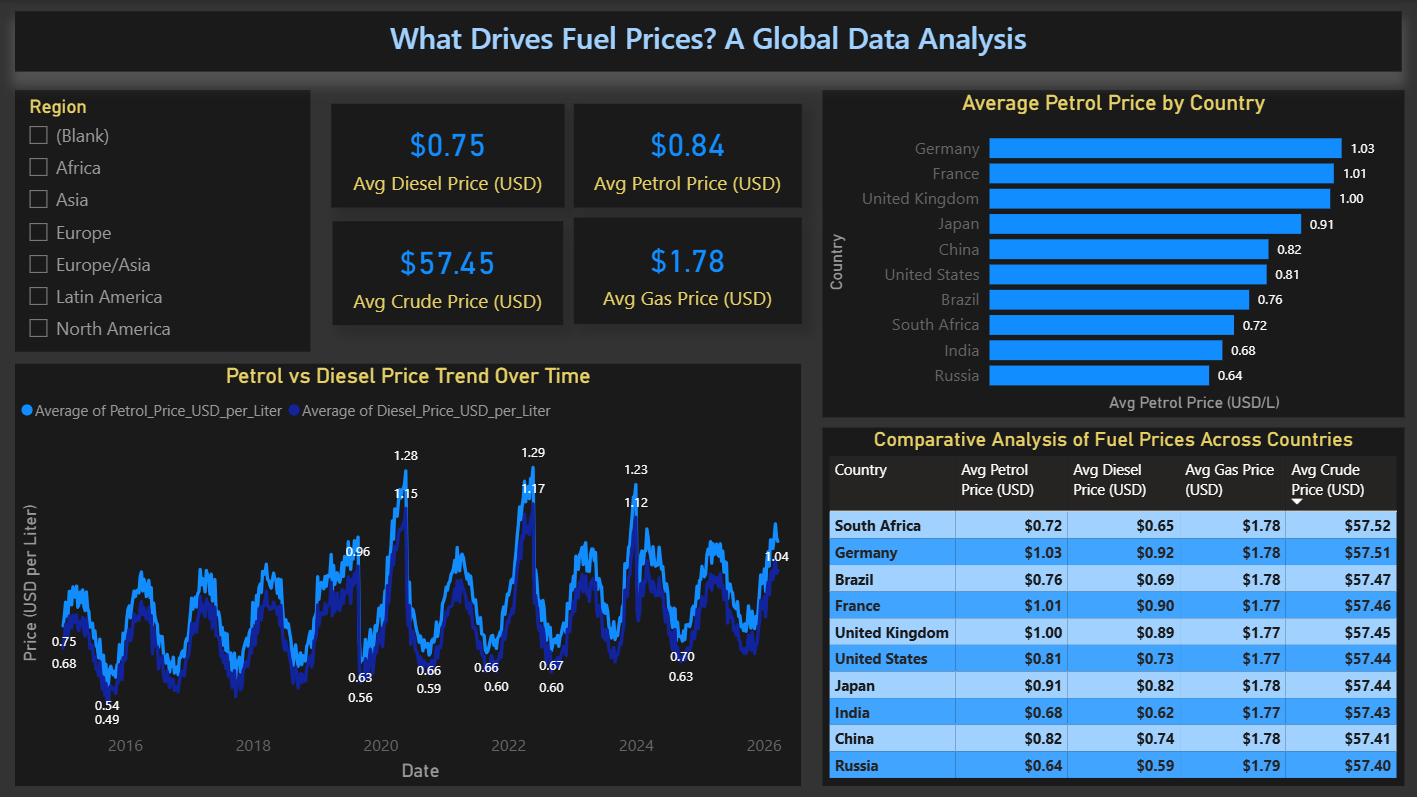

The dashboard page shown, as its layout file describes it:
{"tool":"powerbi","page":{"name":"Page 1","canvas":[1280,720],"ordinal":0},"visuals":[{"type":"card","fields":{"Values":["price_metrics_table_v2.Avg Petrol Price"]},"box":[517.5,93.3,205.3,93.3],"z":0},{"type":"card","fields":{"Values":["price_metrics_table_v2.Avg Diesel Price"]},"box":[298.6,93.3,210.2,93.3],"z":1000},{"type":"card","fields":{"Values":["price_metrics_table_v2.Avg Gas Price"]},"box":[517.5,196.5,205.3,95.8],"z":3000},{"type":"card","fields":{"Values":["price_metrics_table_v2.Avg Crude Price"]},"box":[299.8,199,207.7,93.3],"z":4000},{"type":"lineChart","title":"Petrol vs Diesel Price Trend Over Time","fields":{"Category":["Date.Date"],"Y":["Avg(price_metrics_table_v2.Petrol_Price_USD_per_Liter)","Avg(price_metrics_table_v2.Diesel_Price_USD_per_Liter)"]},"box":[13.7,328.4,709.1,380.7],"z":5000},{"type":"clusteredBarChart","title":"Average Petrol Price by Country","fields":{"Category":["country_table_v2.Country"],"Y":["Avg(price_metrics_table_v2.Petrol_Price_USD_per_Liter)"]},"box":[741.4,80.9,525,294.8],"z":6000},{"type":"tableEx","title":"Comparative Analysis of Fuel Prices Across Countries","fields":{"Values":["country_table_v2.Country","price_metrics_table_v2.Avg Petrol Price","price_metrics_table_v2.Avg Diesel Price","price_metrics_table_v2.Avg Gas Price","price_metrics_table_v2.Avg Crude Price"]},"box":[741.4,385.6,525,323.4],"z":7000},{"type":"slicer","fields":{"Values":["country_table_v2.Region"]},"box":[13.7,80.9,266.2,236.4],"z":8000},{"type":"textbox","box":[13.7,10,1250.2,54.7],"z":9000}]}

Visuals, with their boxes in screenshot pixels (x1, y1, x2, y2), scaled from the page's 1280x720 canvas onto the 1417x797 screenshot:
card - price_metrics_table_v2.Avg Petrol Price: x1=573 y1=103 x2=800 y2=207
card - price_metrics_table_v2.Avg Diesel Price: x1=331 y1=103 x2=563 y2=207
card - price_metrics_table_v2.Avg Gas Price: x1=573 y1=218 x2=800 y2=324
card - price_metrics_table_v2.Avg Crude Price: x1=332 y1=220 x2=562 y2=324
"Petrol vs Diesel Price Trend Over Time" lineChart: x1=15 y1=364 x2=800 y2=785
"Average Petrol Price by Country" clusteredBarChart: x1=821 y1=90 x2=1402 y2=416
"Comparative Analysis of Fuel Prices Across Countries" tableEx: x1=821 y1=427 x2=1402 y2=785
slicer - country_table_v2.Region: x1=15 y1=90 x2=310 y2=351
textbox: x1=15 y1=11 x2=1399 y2=72
